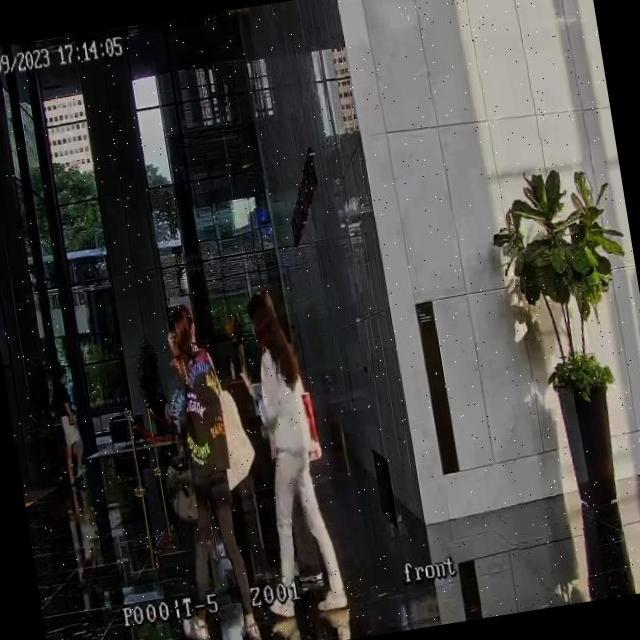person: (230, 284, 351, 623), (143, 299, 263, 640), (48, 362, 90, 488)
